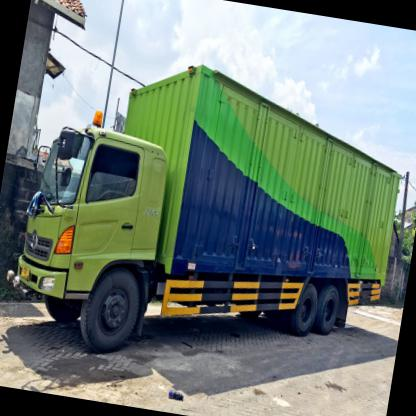truck: (6, 116, 180, 361)
